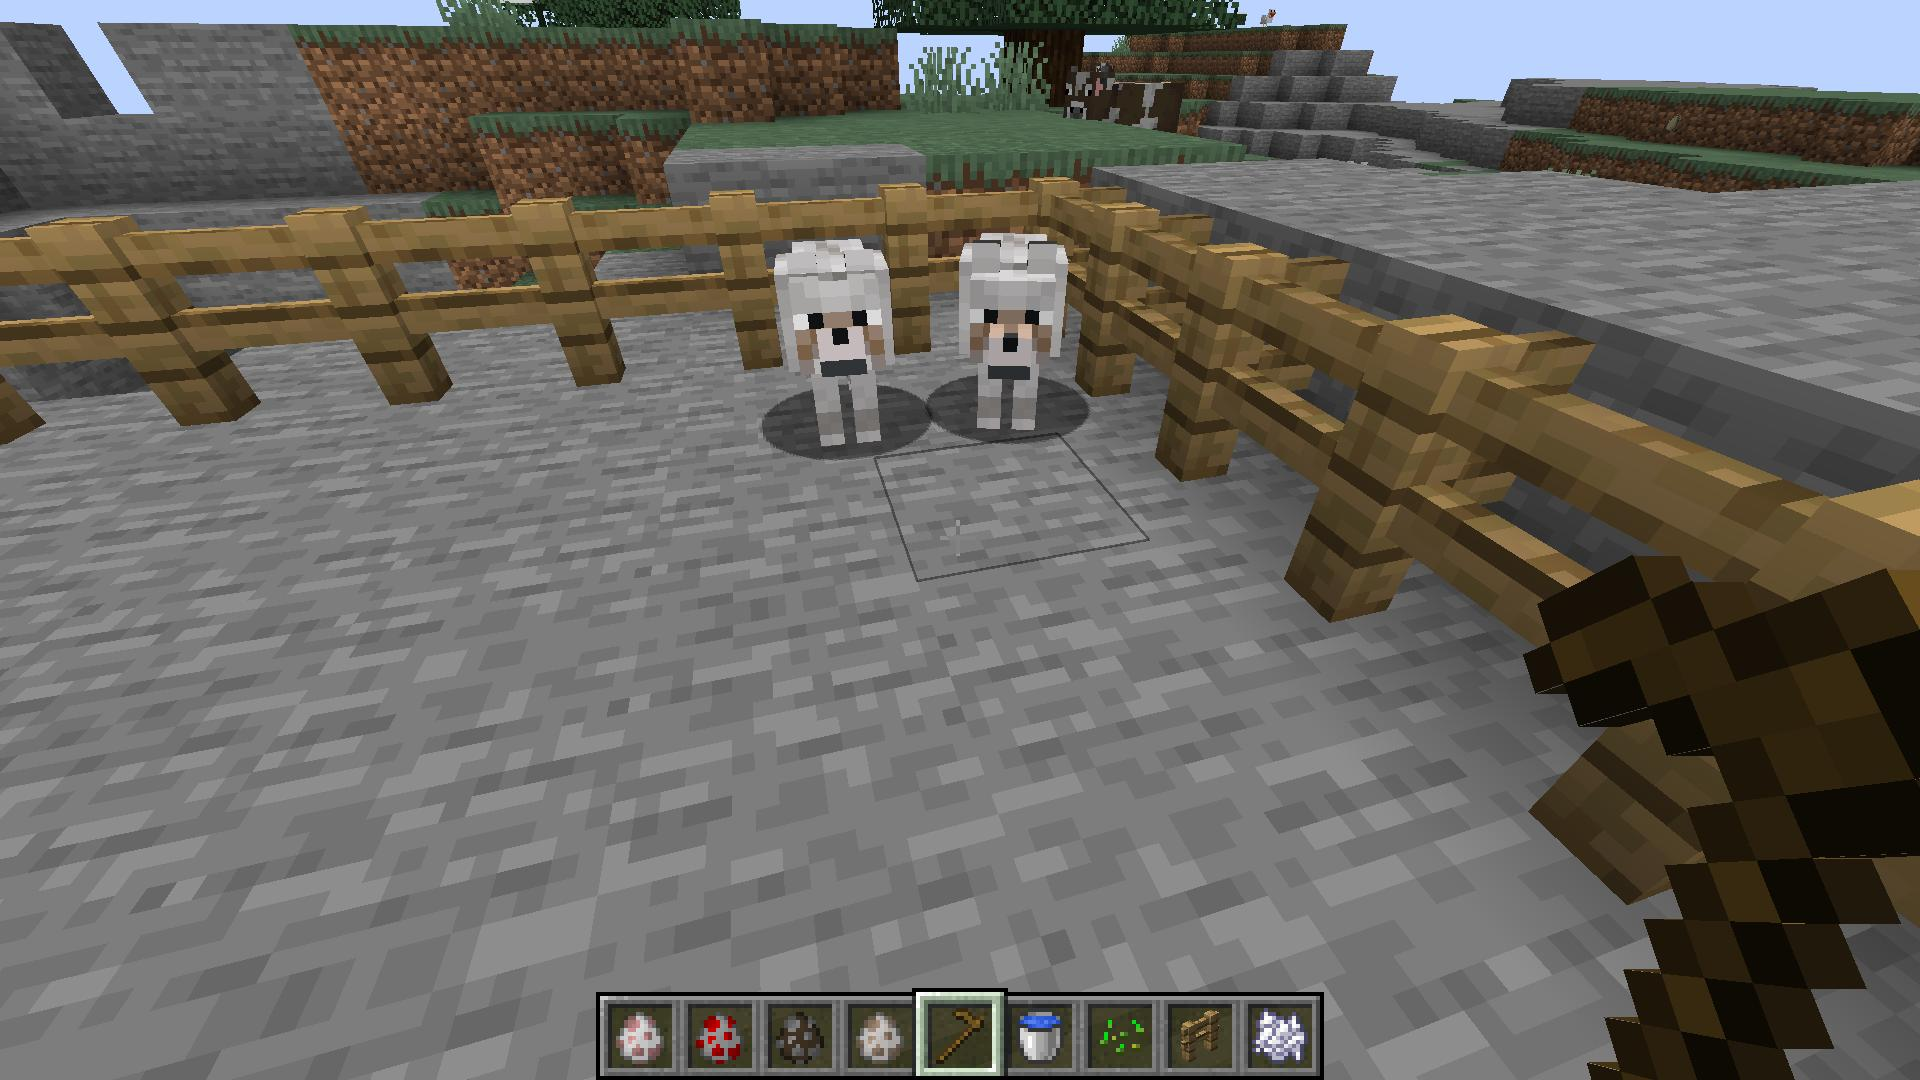cow: (1060, 58, 1184, 137)
wolf: (773, 239, 905, 454), (956, 227, 1065, 434)
